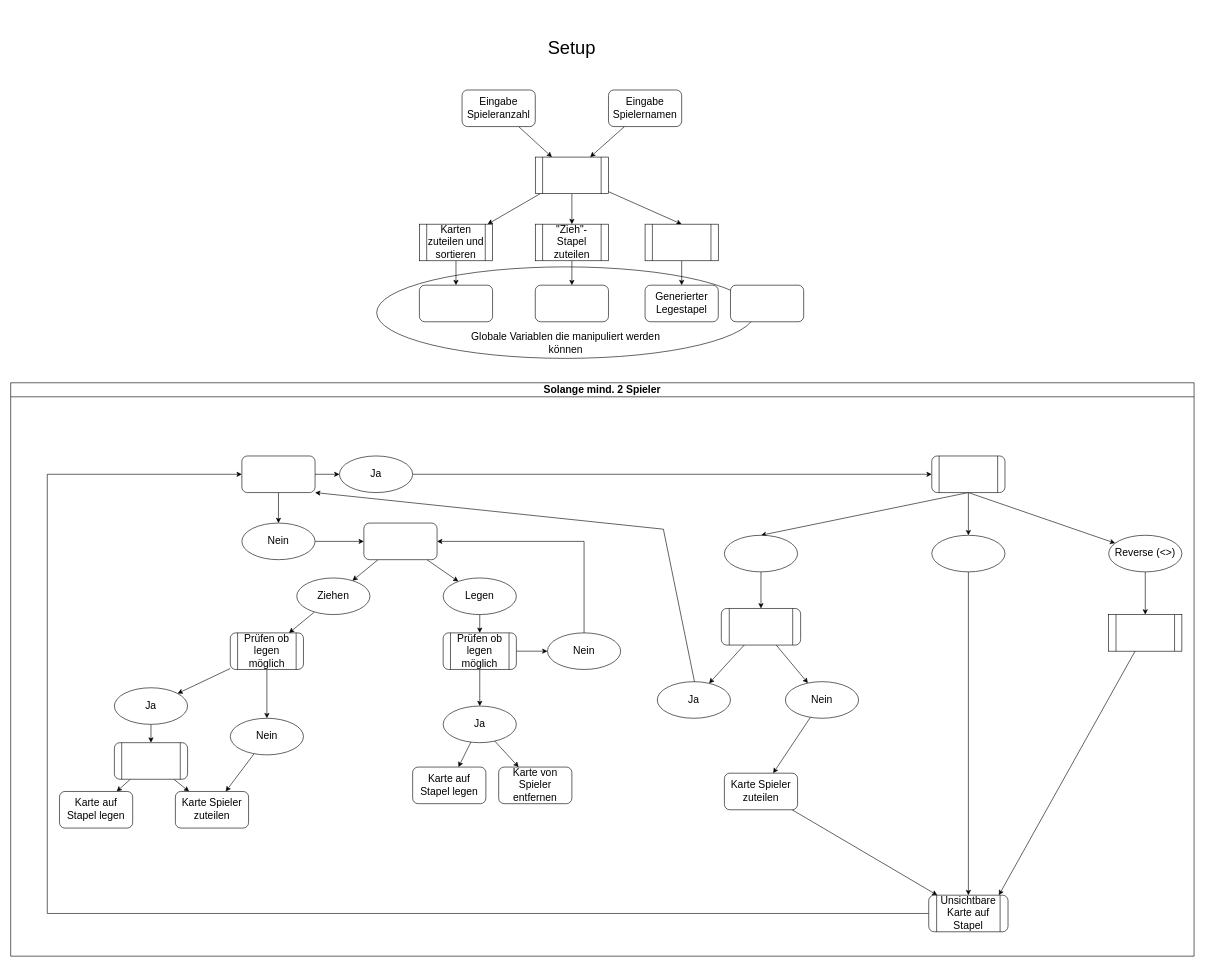
Image size: 1205x967. Some labels were removed from this diagram. Each missing label, with the centre of its shape:
"Lege"-Stapel zuteilen: [681,242]
+2 oder +4: [761,553]
Aussetzen (!!): [968,553]
Eingabe: Behalten oder Legen: [151,760]
Eingabe: Legen oder Ziehen: [400,541]
Generiere Karten: [571,175]
Generierte Spielerhände: [456,303]
Generierter Ziehstapel: [571,303]
Spielrichtung (!)Uhrzeigersinn: [767,303]
Switch (Karte): [968,474]
Weiterleiten?: [761,626]
Ändere Richtung: [1145,632]
Überprüfe auf Events: [278,474]
